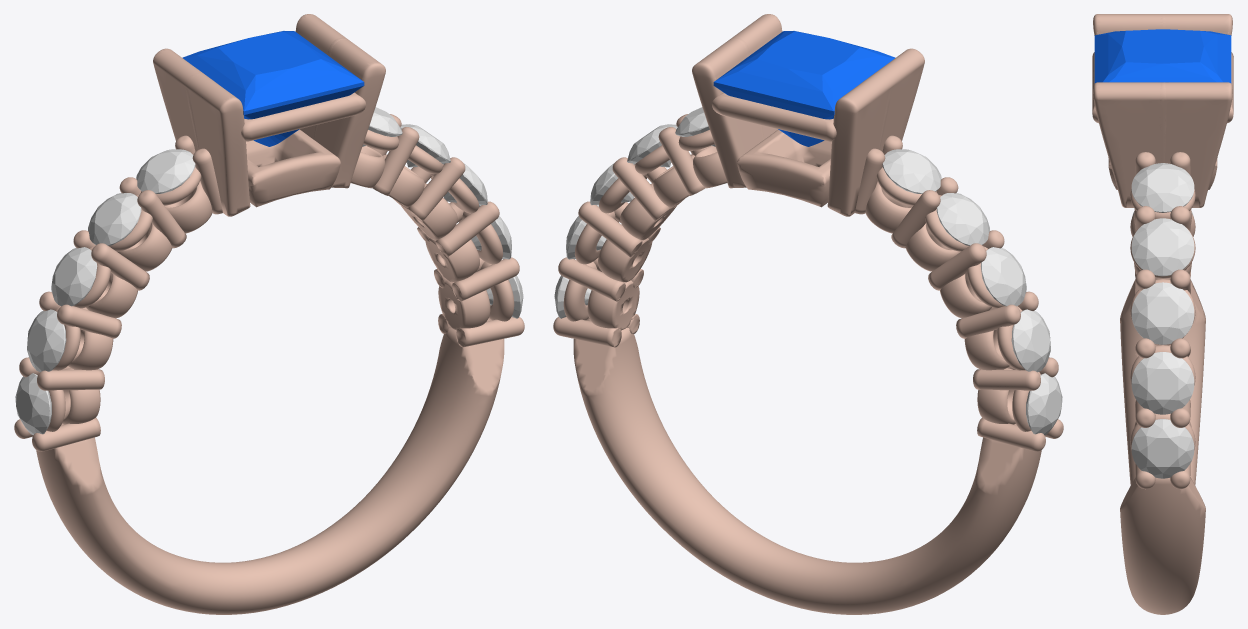
Rendered from bluesapphire-princess-rosegold-halfmoonbezel-taperedband-11stone.glb.
The picture shows the model from 3 angles, left to right: view 1: azimuth 30°, elevation 25°; view 2: azimuth 150°, elevation 25°; view 3: azimuth 270°, elevation 25°; orthographic projection.
Visible parts, largest first — view 1: metal, stone, side.004, side.003, side.005, side.002, side, side.007; view 2: metal, stone, side.004, side.003, side.005, side.002, side, side.007; view 3: metal, stone, side.009, side.008, side.007, side.001, side.006.
Boxes of the visible parts, x1,y1,x2,y2 form: metal: (14,14,524,614); stone: (182,31,364,146); side.004: (88,193,141,245); side.003: (51,247,97,306); side.005: (136,149,195,193); side.002: (27,309,66,372); side: (15,373,51,435); side.007: (400,124,450,167); metal: (553,14,1063,614); stone: (713,31,895,146); side.004: (936,193,989,245); side.003: (980,247,1026,306); side.005: (882,149,941,193); side.002: (1011,309,1050,372); side: (1026,373,1062,435); side.007: (627,124,677,167); metal: (1092,14,1233,614); stone: (1094,29,1231,83); side.009: (1131,352,1194,414); side.008: (1131,282,1194,344); side.007: (1131,218,1194,276); side.001: (1131,419,1194,478); side.006: (1131,163,1194,212).
Size of the model in its own units: 22.23 by 23.85 by 5.6.
